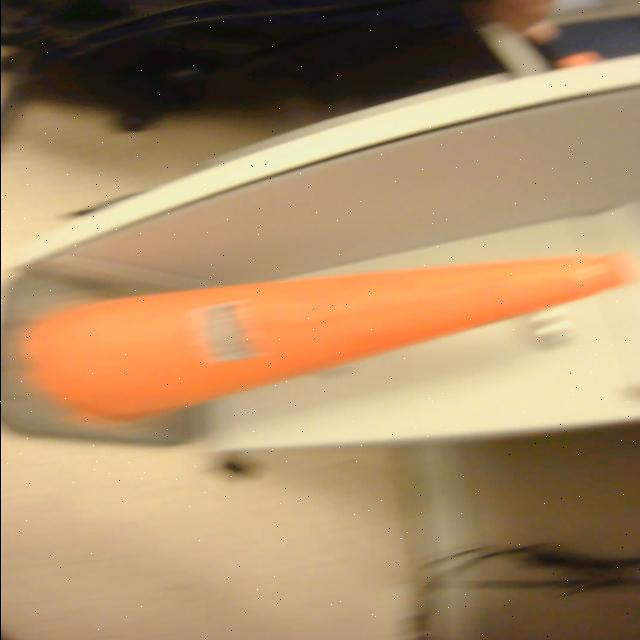traffic cone: (1, 243, 640, 458)
